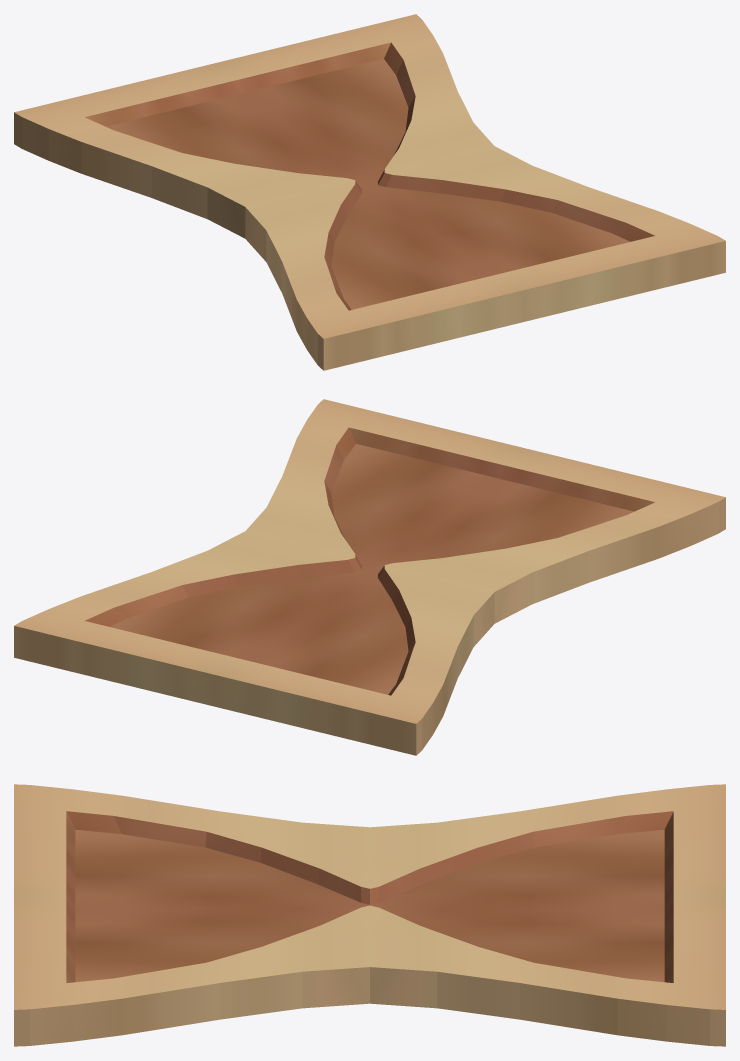
File: Hourglass.glb
3 renders of one model, top to bottom at view 1: azimuth 30°, elevation 25°; view 2: azimuth 150°, elevation 25°; view 3: azimuth 270°, elevation 25°, orthographic. The views are drawn at different scales.
Parts seen in each view (by area): view 1: Hourglass; view 2: Hourglass; view 3: Hourglass.
Part boxes in pixels (<box>): Hourglass: <box>14,14,725,370</box>; Hourglass: <box>14,399,725,755</box>; Hourglass: <box>14,784,725,1046</box>.
Size of the model in its own units: 0.3961 by 0.03 by 0.5282.
Materials: 1 (1 with a texture image).
